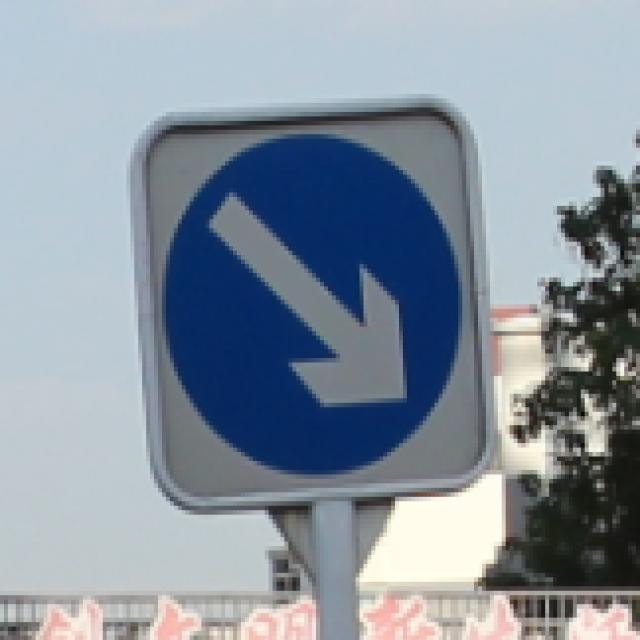Right: (132, 115, 496, 486)
